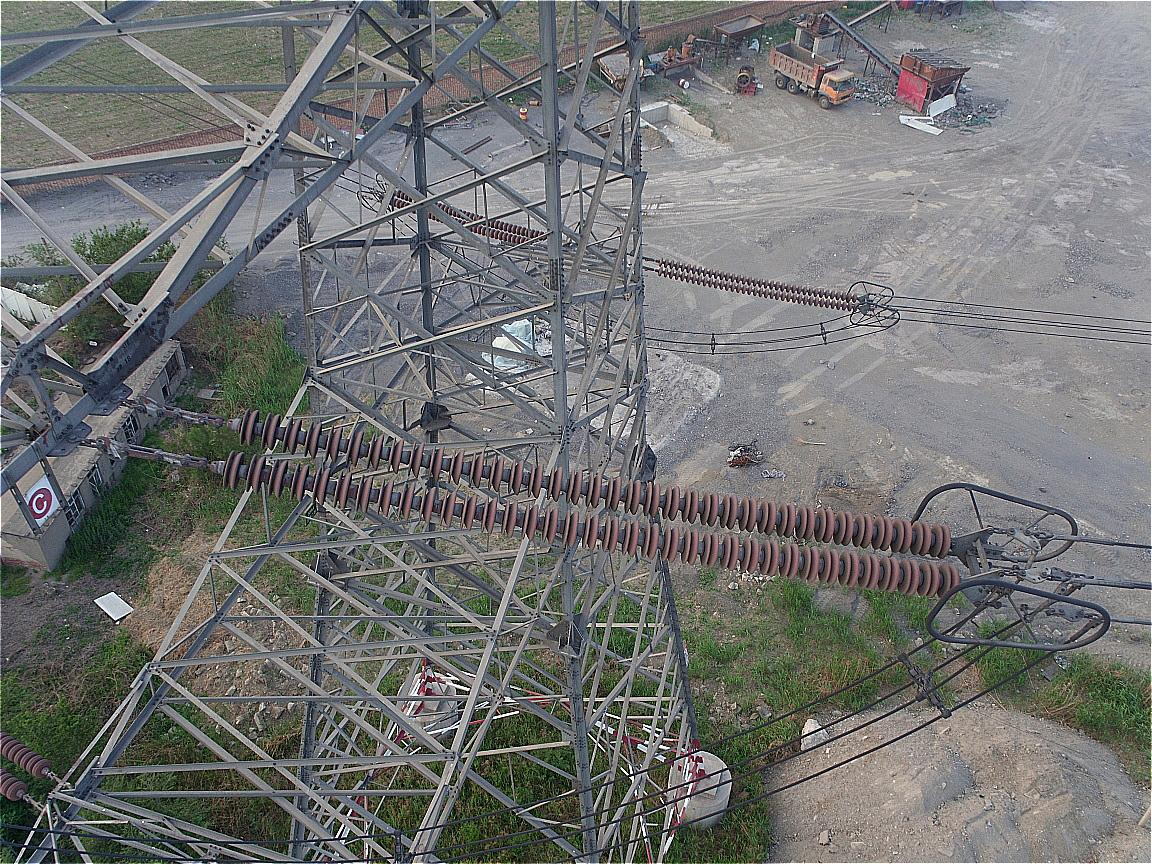insultor1: (647, 248, 876, 316)
insultor2: (215, 397, 985, 608)
